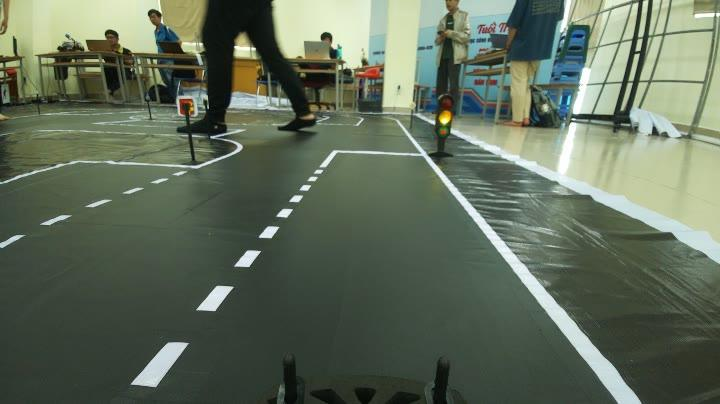trafficlight: (420, 88, 462, 169)
